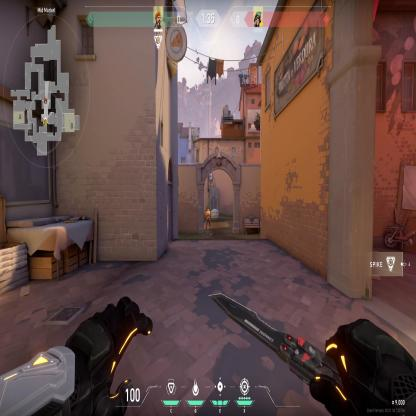enemy: (204, 205, 212, 237)
